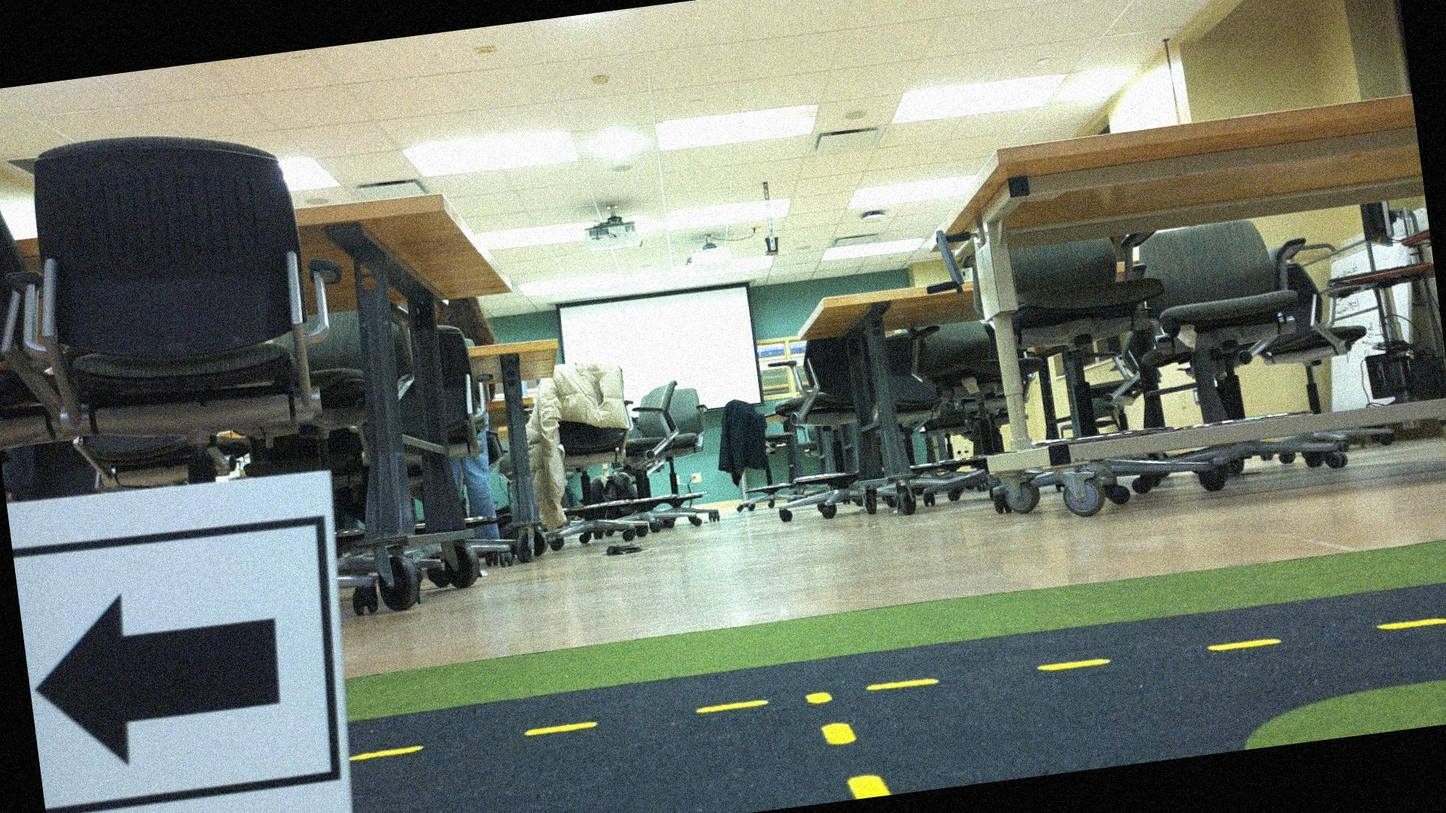turnleft: (9, 470, 363, 812)
yellowline: (373, 613, 1445, 761), (824, 717, 885, 802)
